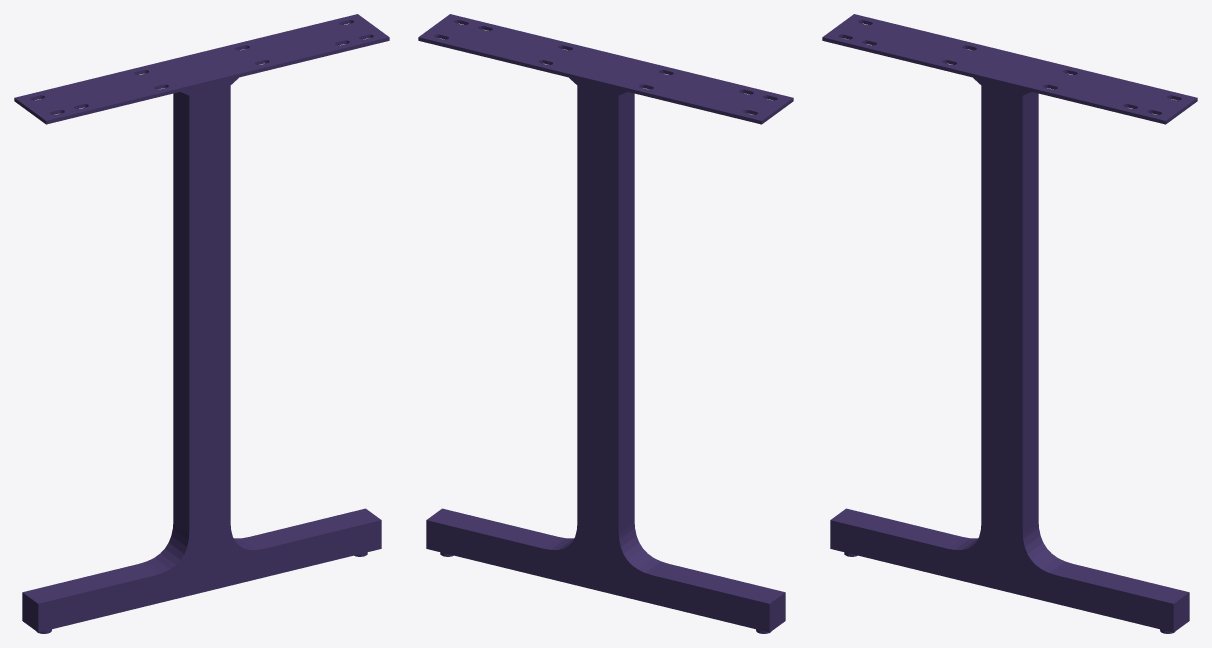
File: 1leg.glb
3 renders of one model, left to right at view 1: azimuth 30°, elevation 25°; view 2: azimuth 150°, elevation 25°; view 3: azimuth 330°, elevation 25°, orthographic.
Visible parts, largest first — view 1: leg original; view 2: leg original; view 3: leg original.
Boxes of the visible parts, x1,y1,x2,y2 form: leg original: [14, 14, 389, 633]; leg original: [418, 14, 793, 633]; leg original: [822, 14, 1197, 633].
Size of the model in its own units: 0.5 by 0.73 by 0.08.
